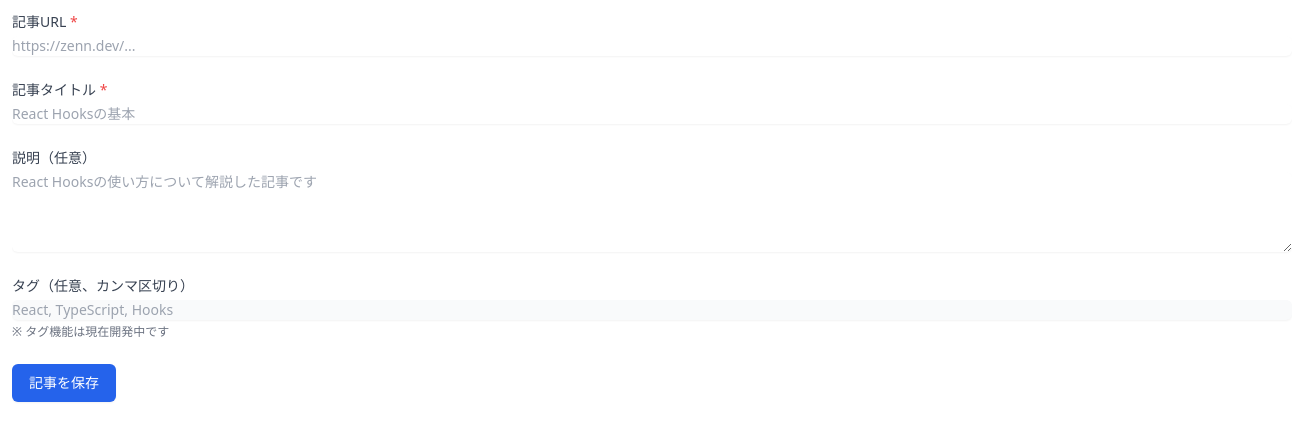
ArticleForm › バリデーション › 不正なURL形式の場合、エラーメッセージが表示される
This screenshot has width=1304, height=443.
# 不正なURL形式
Type "invalid-url" into the field labelled "記事URL *" at (652, 46), box [12,36,1292,56]
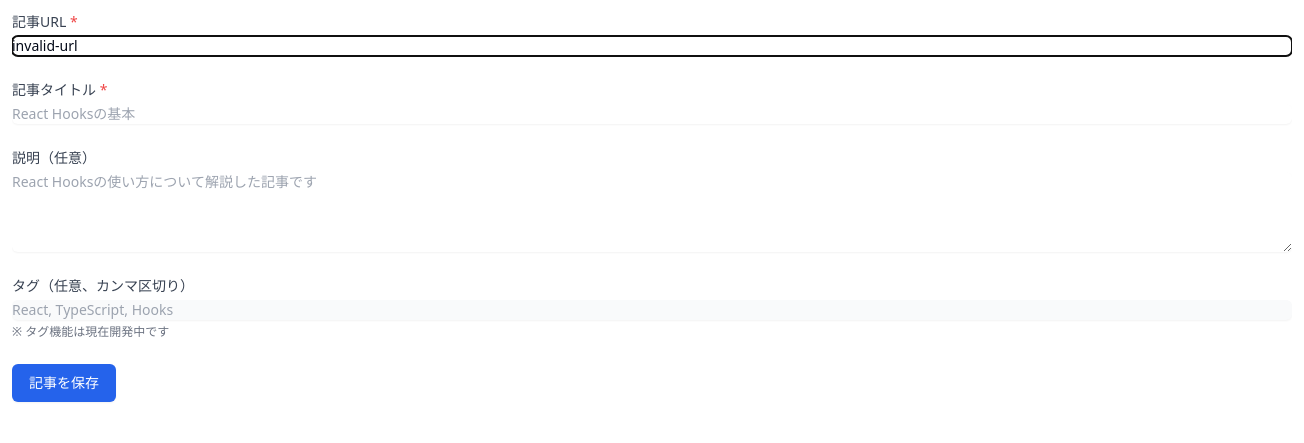
Type "テストタイトル" into the field labelled "記事タイトル *" at (652, 114), box [12,104,1292,124]
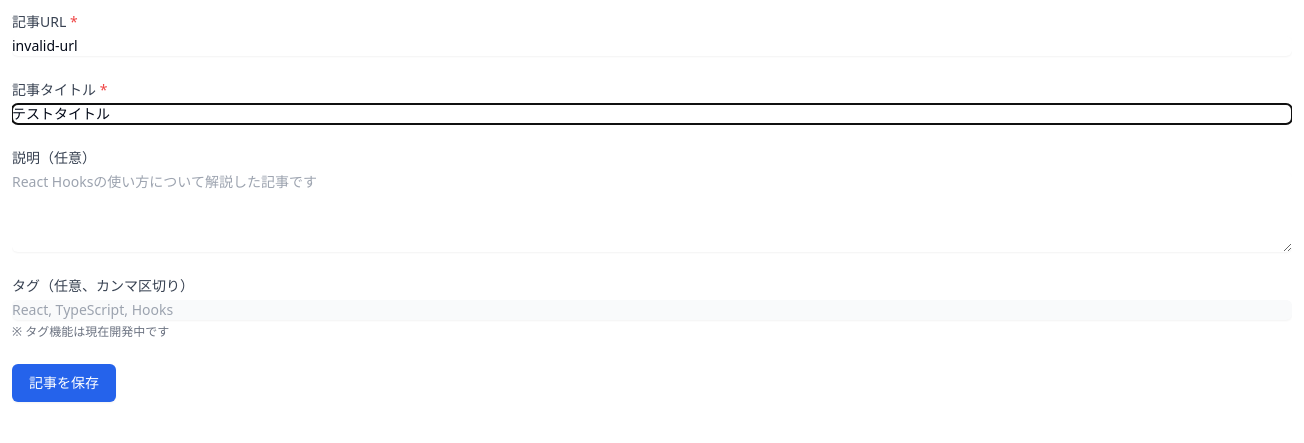
Click the button "記事を保存" at (64, 383), box [12,364,116,402]
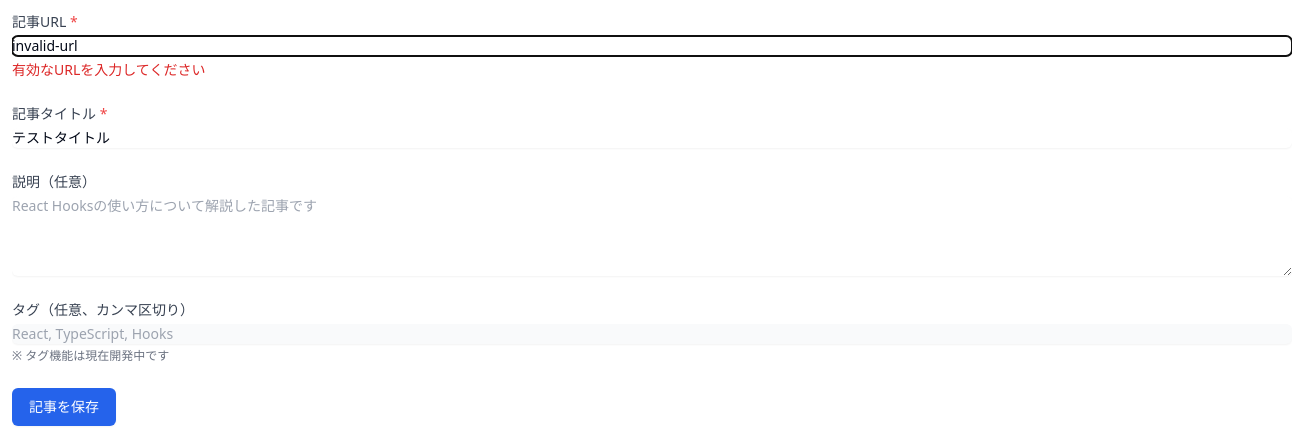
Now the text "有効なURLを入力してください" is shown, box [12,60,205,79]
